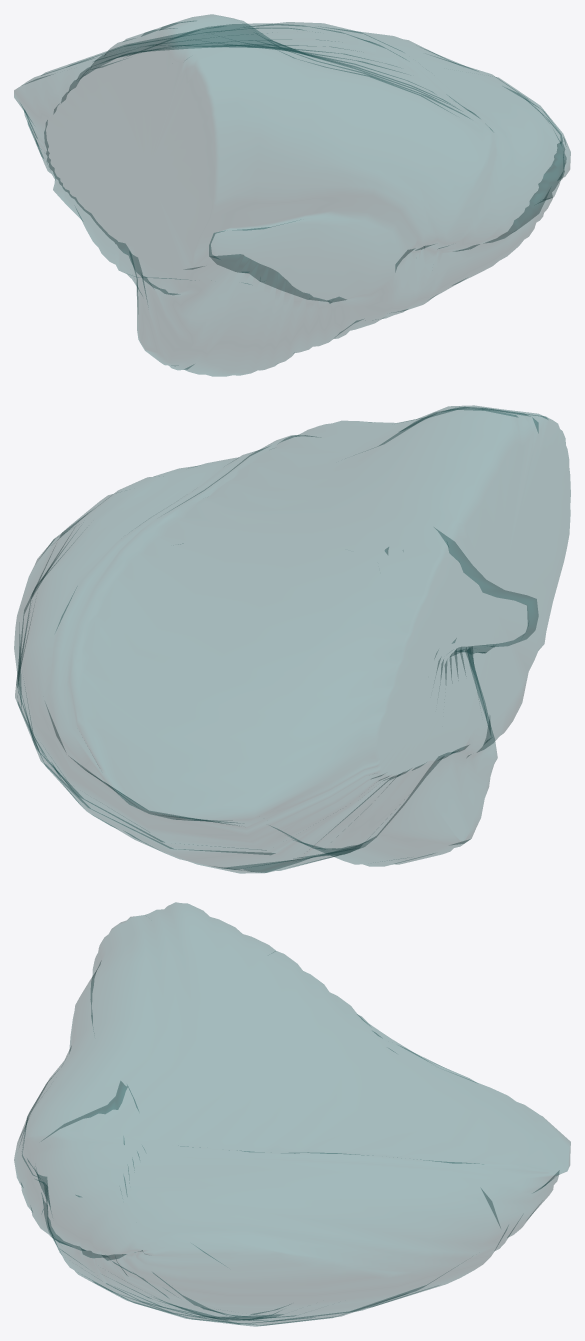
File: Transperent Nervous_Full_Cerebellum_3.gltf
3 views of the same model, one above another, from view 1: azimuth 30°, elevation 25°; view 2: azimuth 150°, elevation 25°; view 3: azimuth 270°, elevation 25° (orthographic). The views are drawn at different scales.
Visible parts, largest first — view 1: Nervous_Full_Cerebellum_2; view 2: Nervous_Full_Cerebellum_2; view 3: Nervous_Full_Cerebellum_2.
Part boxes in pixels (<box>): Nervous_Full_Cerebellum_2: <box>14,14,570,376</box>; Nervous_Full_Cerebellum_2: <box>14,405,570,873</box>; Nervous_Full_Cerebellum_2: <box>14,902,570,1326</box>.
Size of the model in its own units: 4.45 by 4.26 by 5.89.
